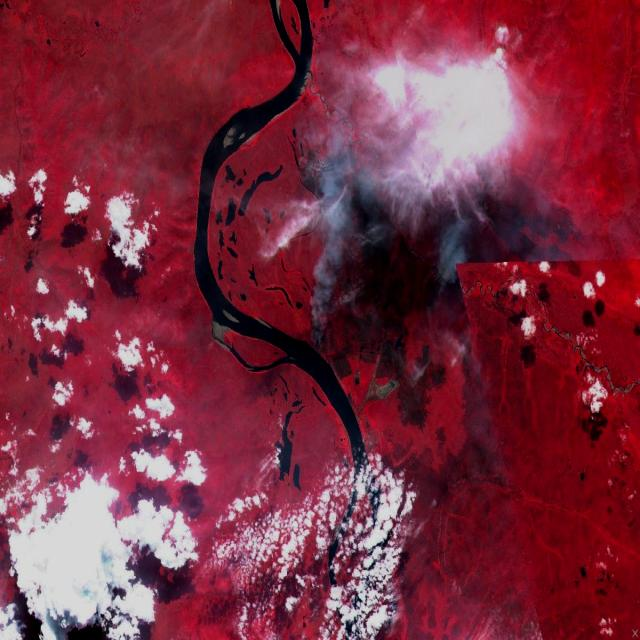fire: (424, 243, 474, 307), (297, 313, 331, 360)
